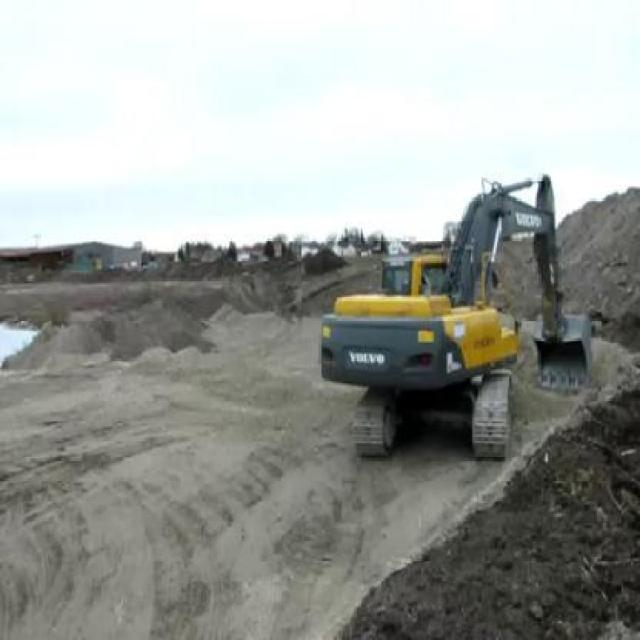excavator: (316, 167, 592, 453)
